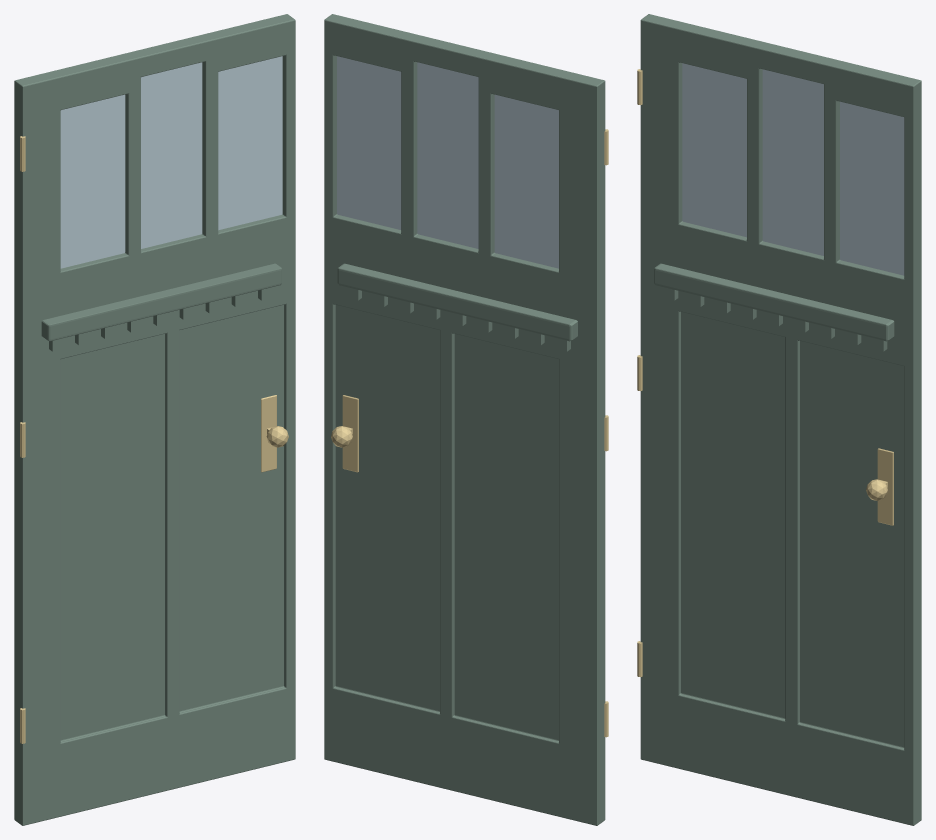
Rendered from door_leaf_front.glb.
3 renders of one model, left to right at view 1: azimuth 30°, elevation 25°; view 2: azimuth 150°, elevation 25°; view 3: azimuth 330°, elevation 25°, orthographic.
Parts seen in each view (by area): view 1: door_leaf_front_door, door_leaf_front_glass, door_leaf_front_brass; view 2: door_leaf_front_door, door_leaf_front_glass, door_leaf_front_brass; view 3: door_leaf_front_door, door_leaf_front_glass, door_leaf_front_brass.
Part boxes in pixels (box(x1,y1,x2,y2)): door_leaf_front_door: box(14, 14, 295, 825); door_leaf_front_glass: box(60, 56, 282, 268); door_leaf_front_brass: box(20, 136, 288, 743); door_leaf_front_door: box(324, 14, 605, 825); door_leaf_front_glass: box(337, 56, 558, 268); door_leaf_front_brass: box(331, 129, 608, 737); door_leaf_front_door: box(640, 14, 921, 825); door_leaf_front_glass: box(682, 63, 904, 275); door_leaf_front_brass: box(637, 69, 893, 677).
Size of the model in its own units: 0.858 by 2.2 by 0.205.
